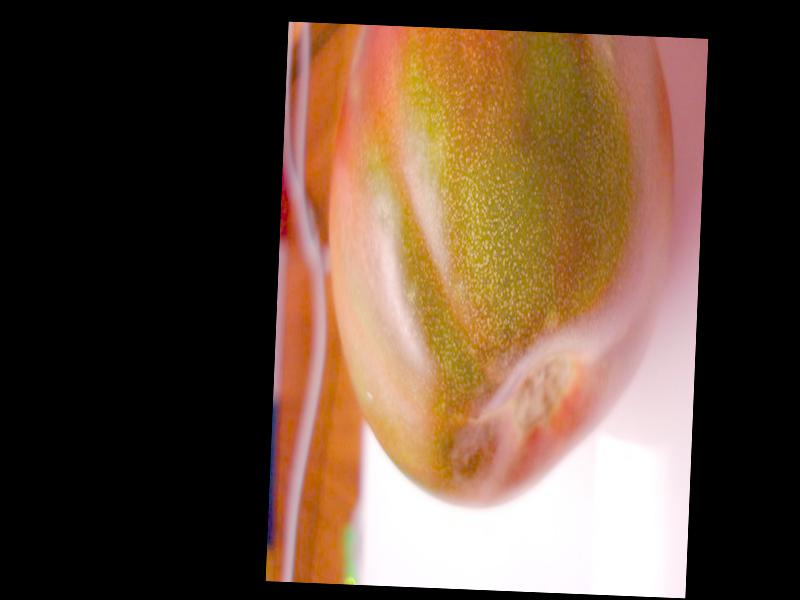Tomato: (316, 25, 679, 513)
